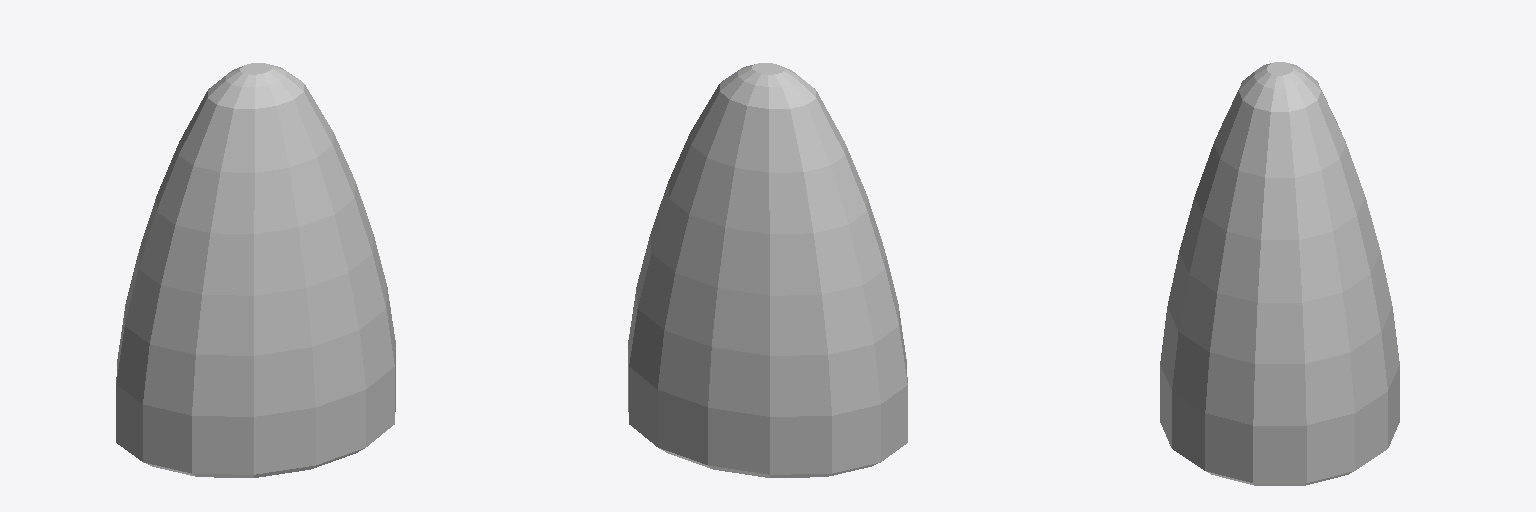
The model's file is candyrock.obj.
3 renders of one model, left to right at view 1: azimuth 30°, elevation 25°; view 2: azimuth 150°, elevation 25°; view 3: azimuth 270°, elevation 25°, orthographic.
Parts seen in each view (by area): view 1: Cylinder.004_Cylinder.005; view 2: Cylinder.004_Cylinder.005; view 3: Cylinder.004_Cylinder.005.
Part boxes in pixels (left/top/right/bottom): Cylinder.004_Cylinder.005: left=116, top=63, right=395, bottom=477; Cylinder.004_Cylinder.005: left=628, top=63, right=907, bottom=477; Cylinder.004_Cylinder.005: left=1160, top=62, right=1399, bottom=485.
Size of the model in its own units: 2.67 by 3.77 by 2.19.